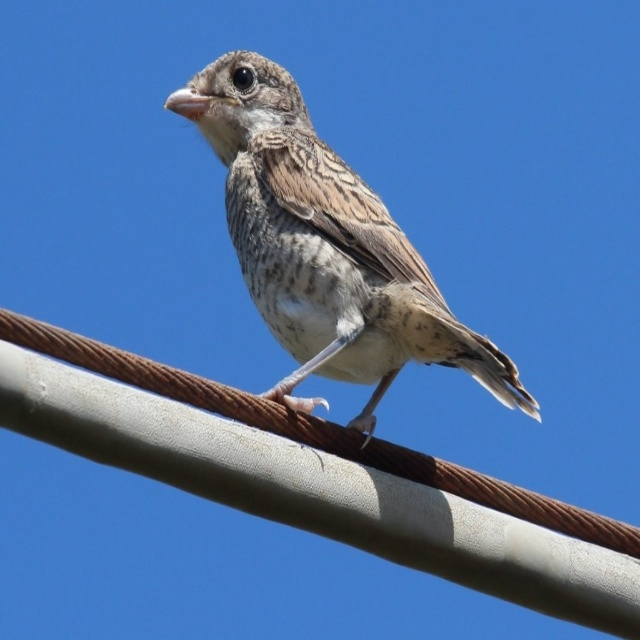Sparrow: (169, 49, 544, 472)
